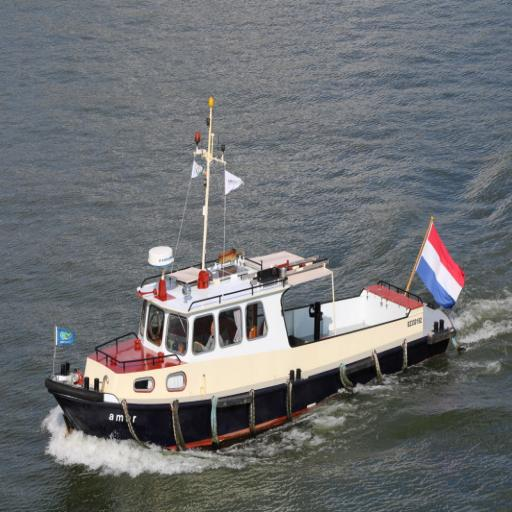tugboat: (43, 90, 470, 465)
